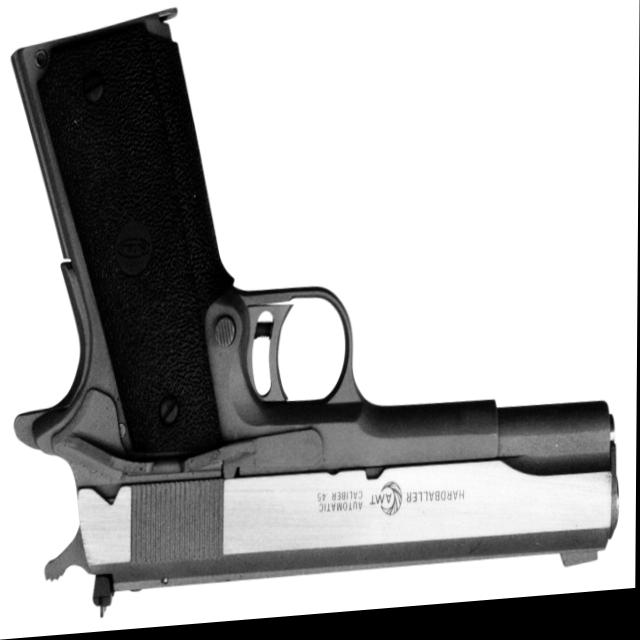handgun: (8, 0, 629, 618)
